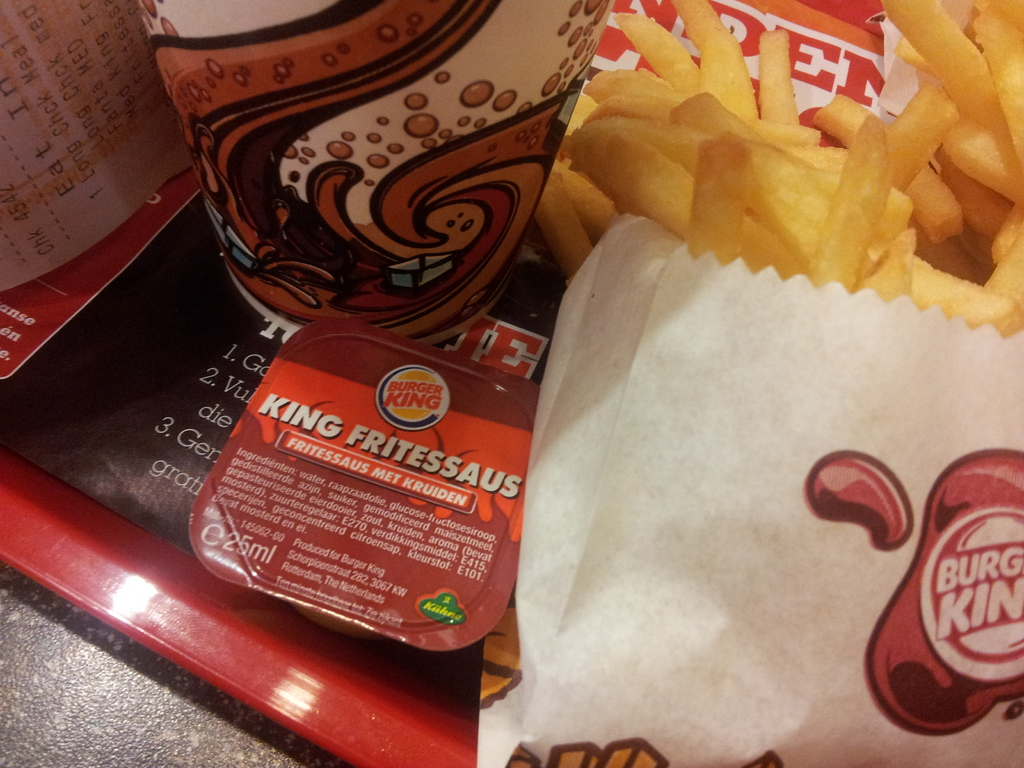French fries: (522, 34, 1024, 323)
